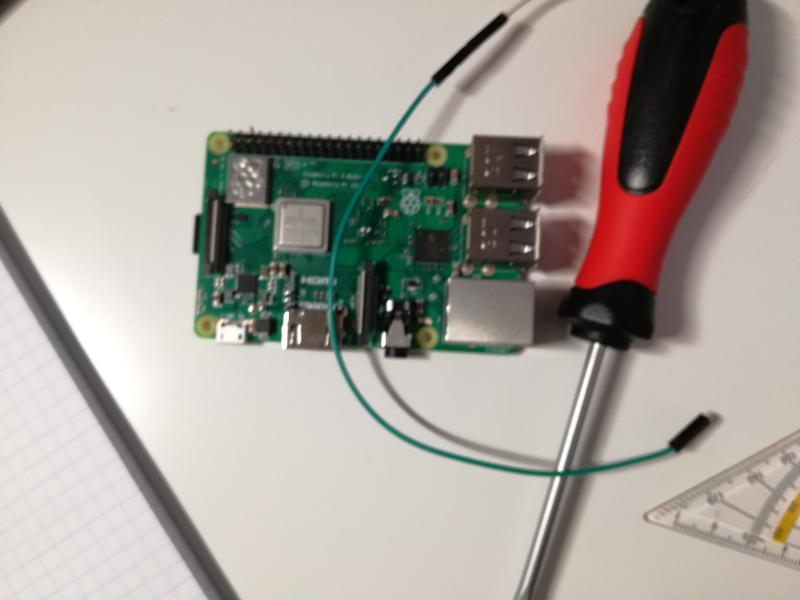Raspberry_Pi_3: (186, 121, 549, 366)
